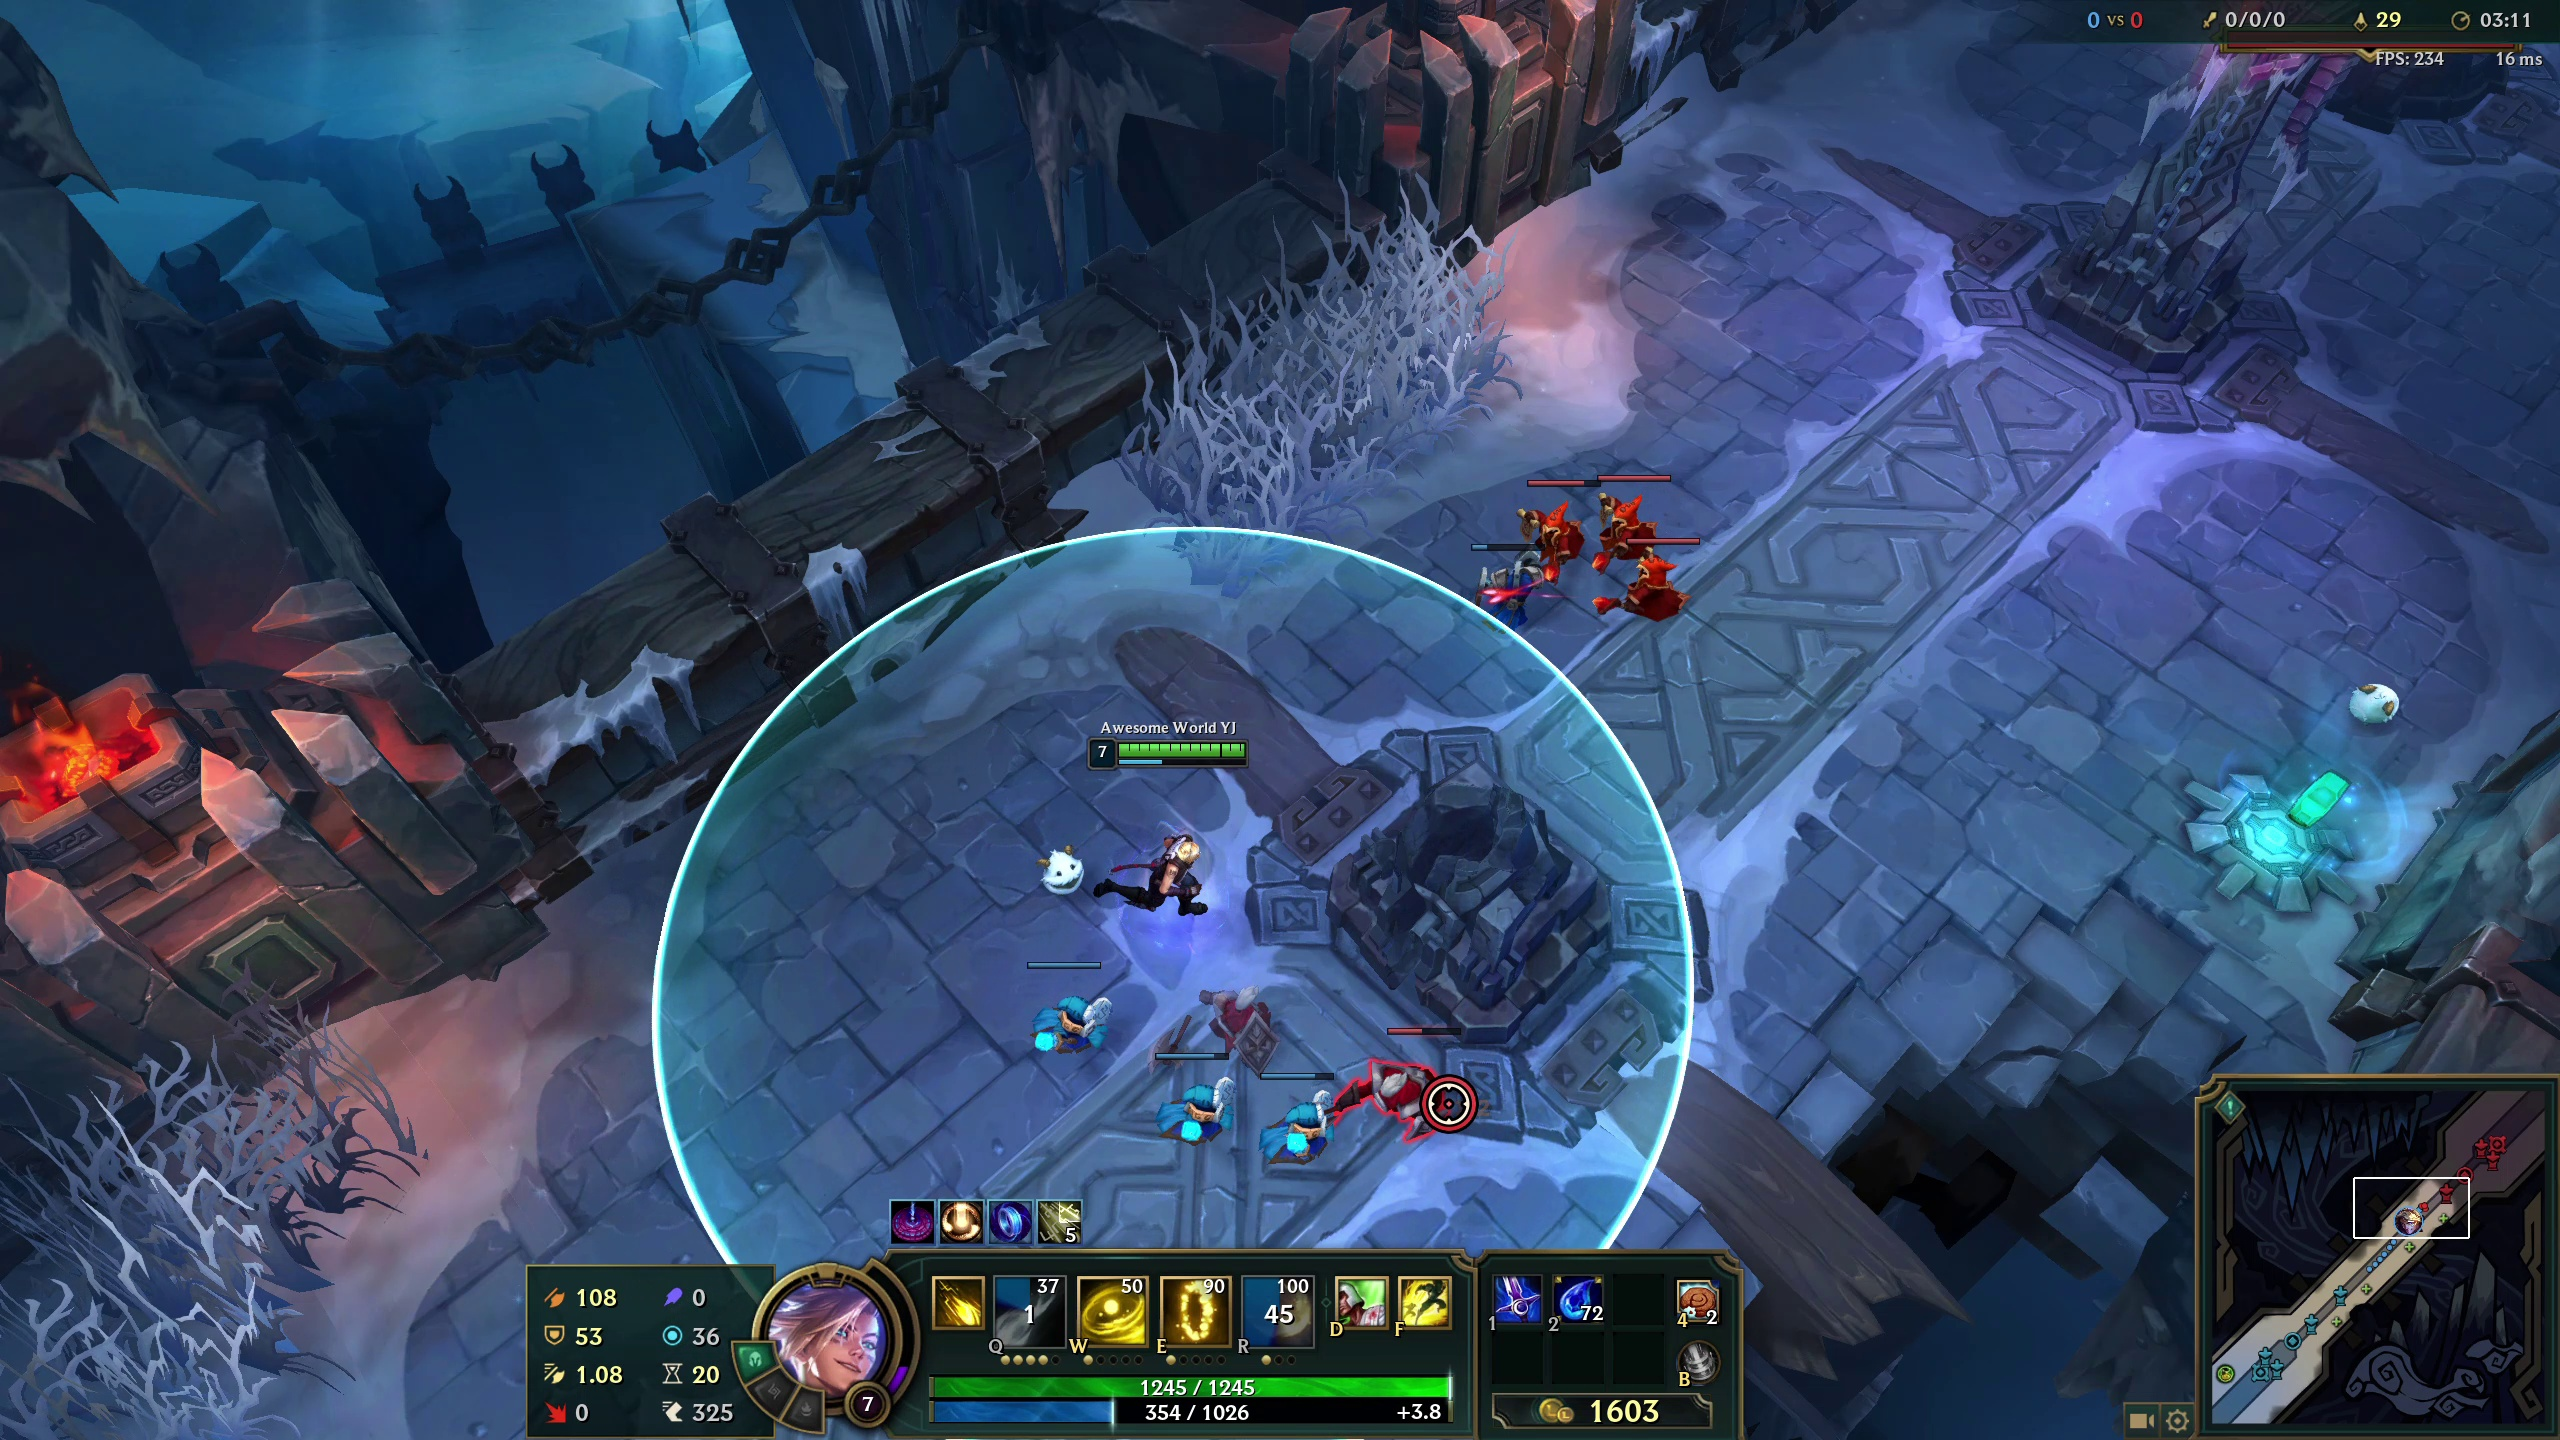EZ: (1108, 716, 1217, 951)
EnemyMinion: (1524, 454, 1609, 547), (1589, 452, 1674, 545), (1206, 951, 1291, 1044), (1623, 517, 1707, 608), (1366, 1036, 1451, 1127)
Glass: (2, 1074, 329, 1429), (1190, 297, 1451, 506)
MyMinion: (1016, 964, 1118, 1051), (1138, 1046, 1240, 1134), (1247, 1078, 1349, 1166), (1465, 542, 1567, 628)
Turret: (2068, 18, 2356, 434)
